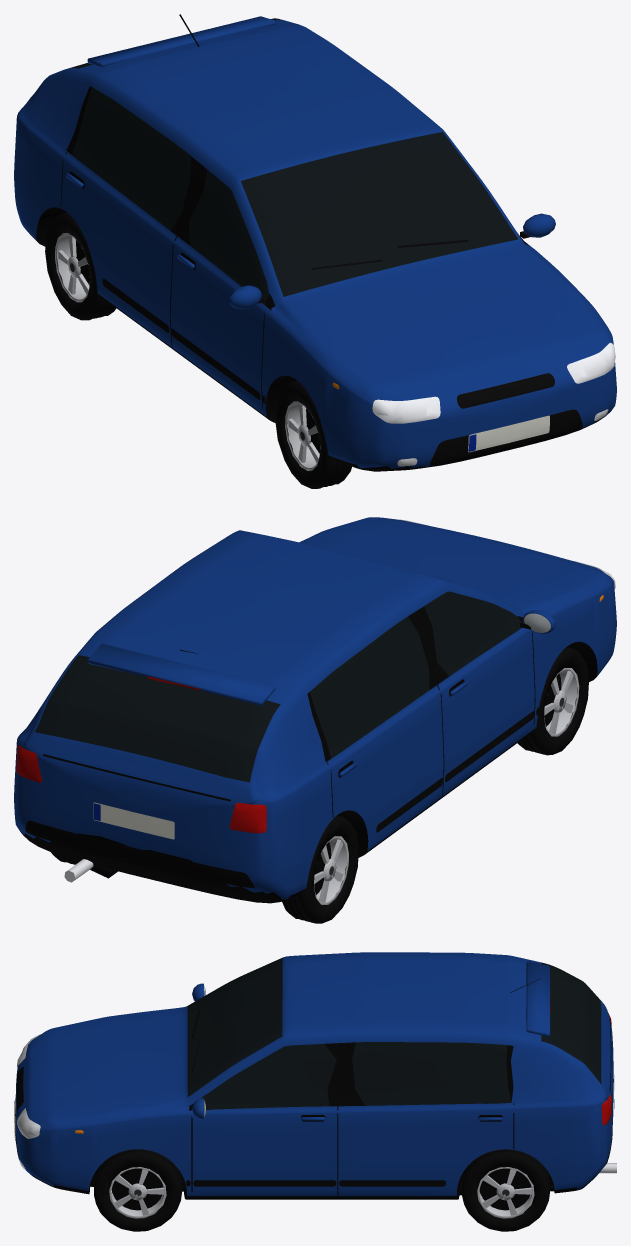
The model's file is kleinwagen_lod.glb.
3 views of the same model, one above another, from view 1: azimuth 30°, elevation 25°; view 2: azimuth 150°, elevation 25°; view 3: azimuth 270°, elevation 25° (orthographic). The views are drawn at different scales.
Parts seen in each view (by area): view 1: body, decals, wheel_fr, wheel_rr, details; view 2: body, decals, details, wheel_rr, wheel_fr; view 3: body, wheel_fl, wheel_rl, decals, details.
Boxes of the visible parts, <box> form: body: <box>14,18,616,471</box>; decals: <box>60,152,615,466</box>; wheel_fr: <box>275,380,351,488</box>; wheel_rr: <box>45,212,116,320</box>; details: <box>66,14,555,309</box>; body: <box>14,517,616,903</box>; decals: <box>16,519,615,887</box>; details: <box>64,610,555,882</box>; wheel_rr: <box>282,815,358,923</box>; wheel_fr: <box>517,647,588,755</box>; body: <box>15,952,613,1199</box>; wheel_fl: <box>94,1149,181,1231</box>; wheel_rl: <box>461,1149,549,1231</box>; decals: <box>14,1013,614,1195</box>; details: <box>191,961,616,1195</box>.
Bounding box in the file's own units: 2.08 × 1.56 × 4.18.
